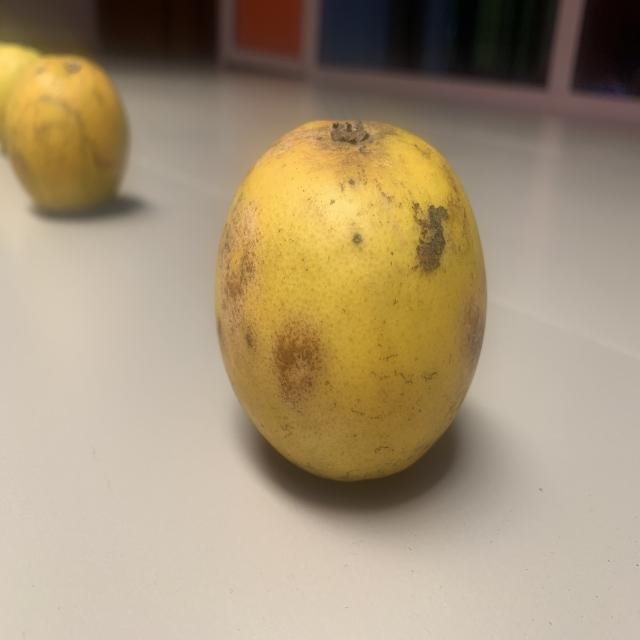Ripe orange: (208, 100, 498, 496), (0, 38, 156, 229)
